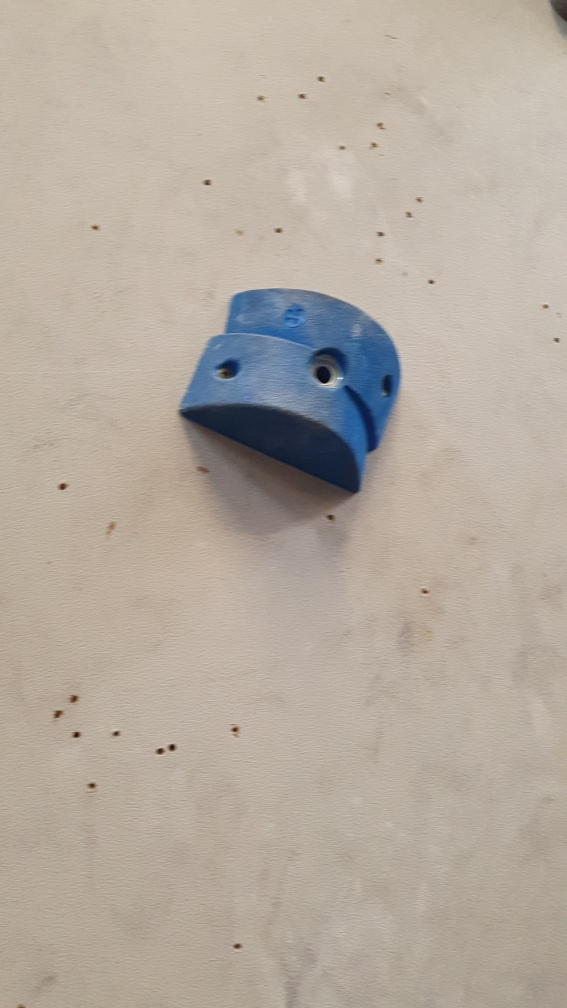Pinch: (178, 287, 401, 494)
